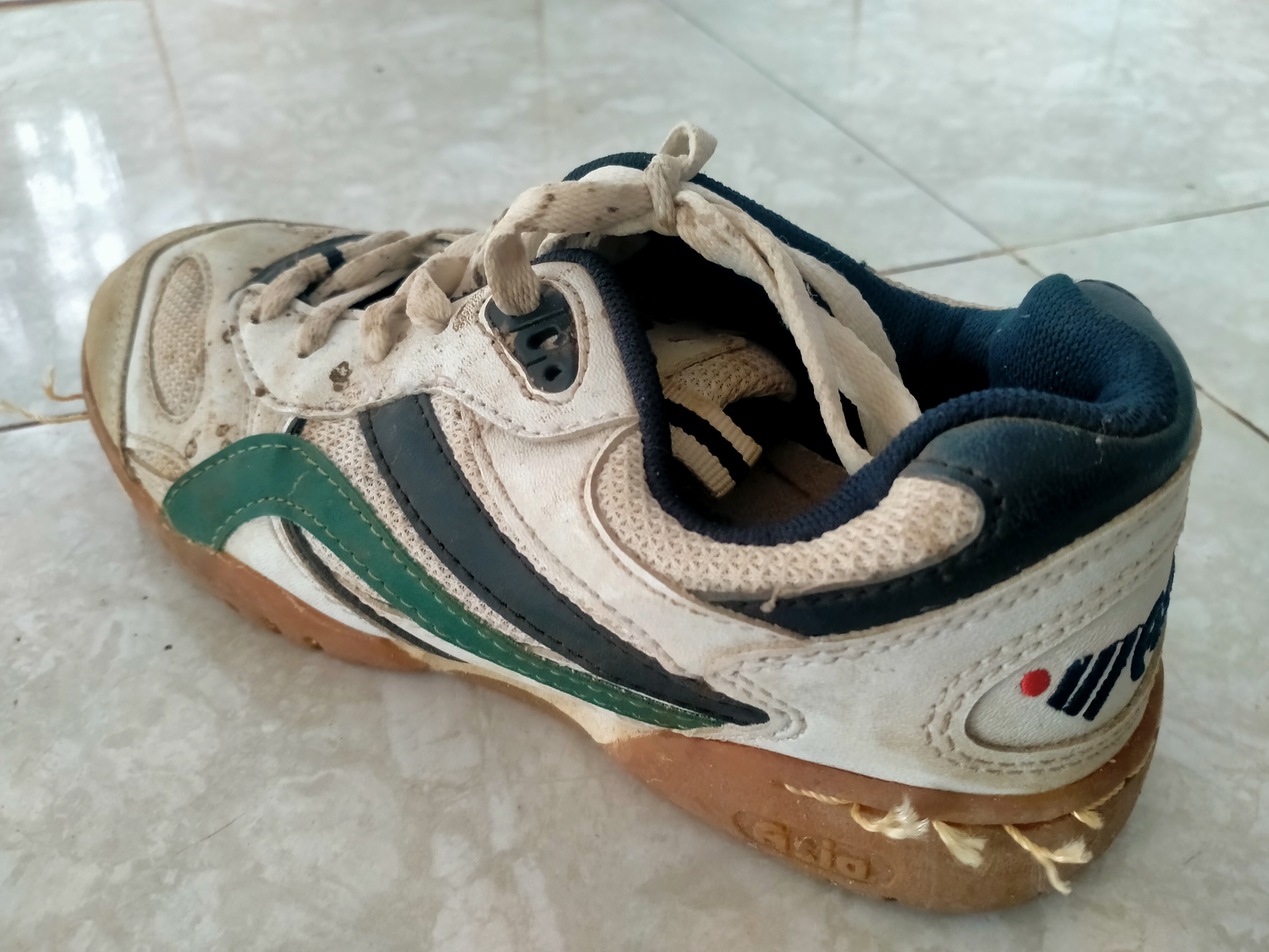broken: (840, 788, 1122, 852)
